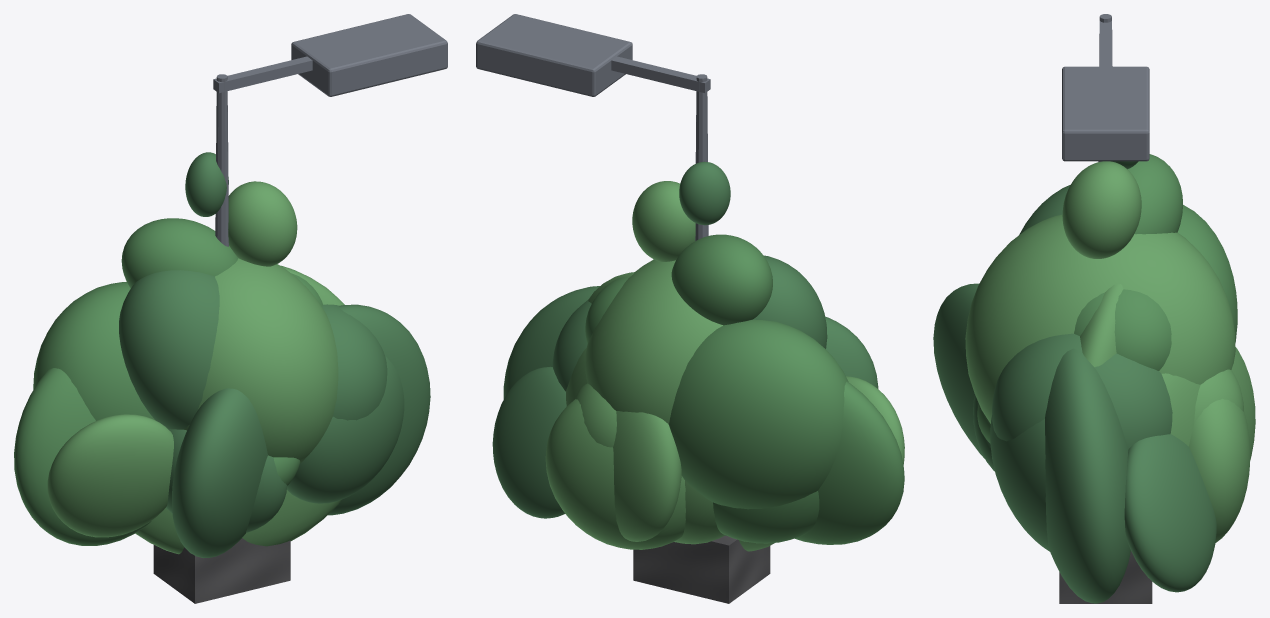
Rendered from props.glb.
The picture shows the model from 3 angles, left to right: view 1: azimuth 30°, elevation 25°; view 2: azimuth 150°, elevation 25°; view 3: azimuth 270°, elevation 25°; orthographic projection. The views are drawn at different scales.
Visible parts, largest first — view 1: Foliage, Foliage.003, Foliage.001, LampBody, Foliage.002, ACUnitMesh; view 2: Foliage, Foliage.003, Foliage.001, Foliage.002, LampBody, ACUnitMesh; view 3: Foliage, Foliage.003, Foliage.002, Foliage.001, LampBody, ACUnitMesh.
Part boxes in pixels (<box>): Foliage: <box>33,258,387,485</box>; Foliage.003: <box>14,265,430,557</box>; Foliage.001: <box>121,152,297,288</box>; LampBody: <box>213,14,447,246</box>; Foliage.002: <box>166,356,404,532</box>; ACUnitMesh: <box>153,538,290,603</box>; Foliage: <box>552,255,848,509</box>; Foliage.003: <box>492,272,904,551</box>; Foliage.001: <box>632,161,772,325</box>; Foliage.002: <box>545,399,819,549</box>; LampBody: <box>476,14,710,240</box>; ACUnitMesh: <box>633,535,770,603</box>; Foliage: <box>965,185,1243,449</box>; Foliage.003: <box>933,283,1255,603</box>; Foliage.002: <box>973,395,1249,551</box>; Foliage.001: <box>1062,154,1182,258</box>; LampBody: <box>1062,14,1149,161</box>; ACUnitMesh: <box>1059,551,1152,603</box>.
Bounding box in the file's own units: 5.14 × 6 × 3.12.
Materials: 8 (1 with a texture image).
